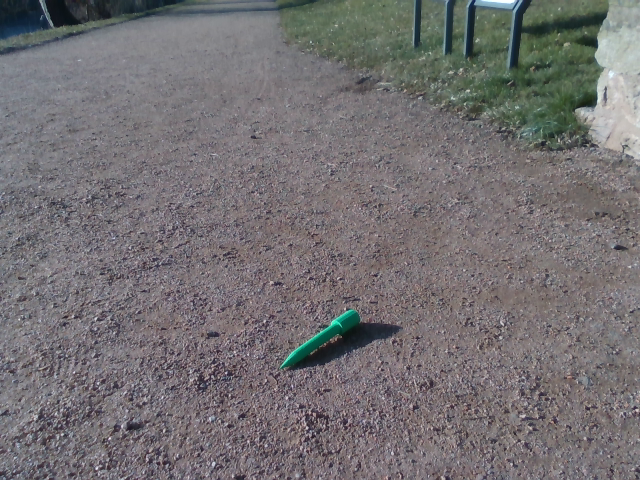Probe: (280, 305, 361, 370)
